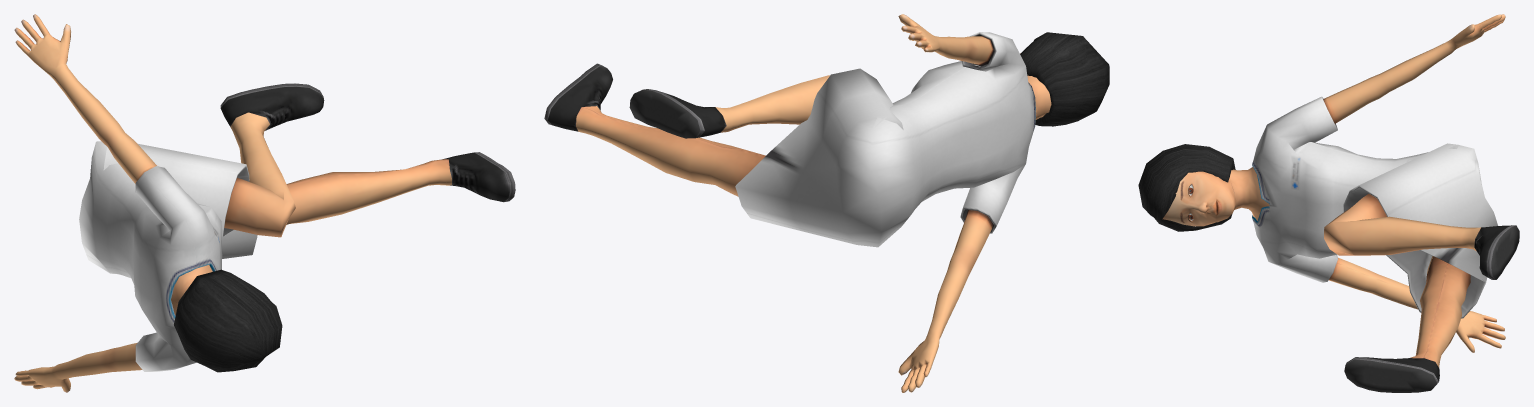
The model's file is nurse_seated.glb.
3 views of the same model, side by side, from view 1: azimuth 30°, elevation 25°; view 2: azimuth 150°, elevation 25°; view 3: azimuth 270°, elevation 25° (orthographic). The views are drawn at different scales.
Parts seen in each view (by area): view 1: world; view 2: world; view 3: world.
Part boxes in pixels (x1,y1,x2,y2): world: (14,14,515,392); world: (544,14,1109,392); world: (1138,14,1519,392).
Size of the model in its own units: 1.02 by 0.8545 by 0.8837.
1 material, 1 textured.
